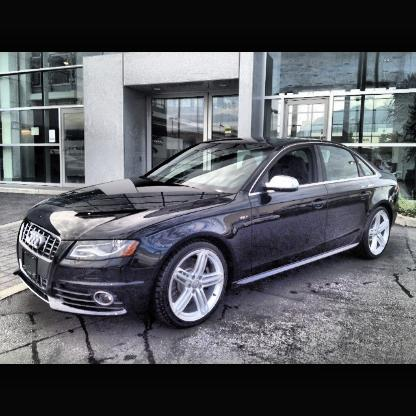Audi S4 Sedan 2012: (17, 140, 402, 330)
